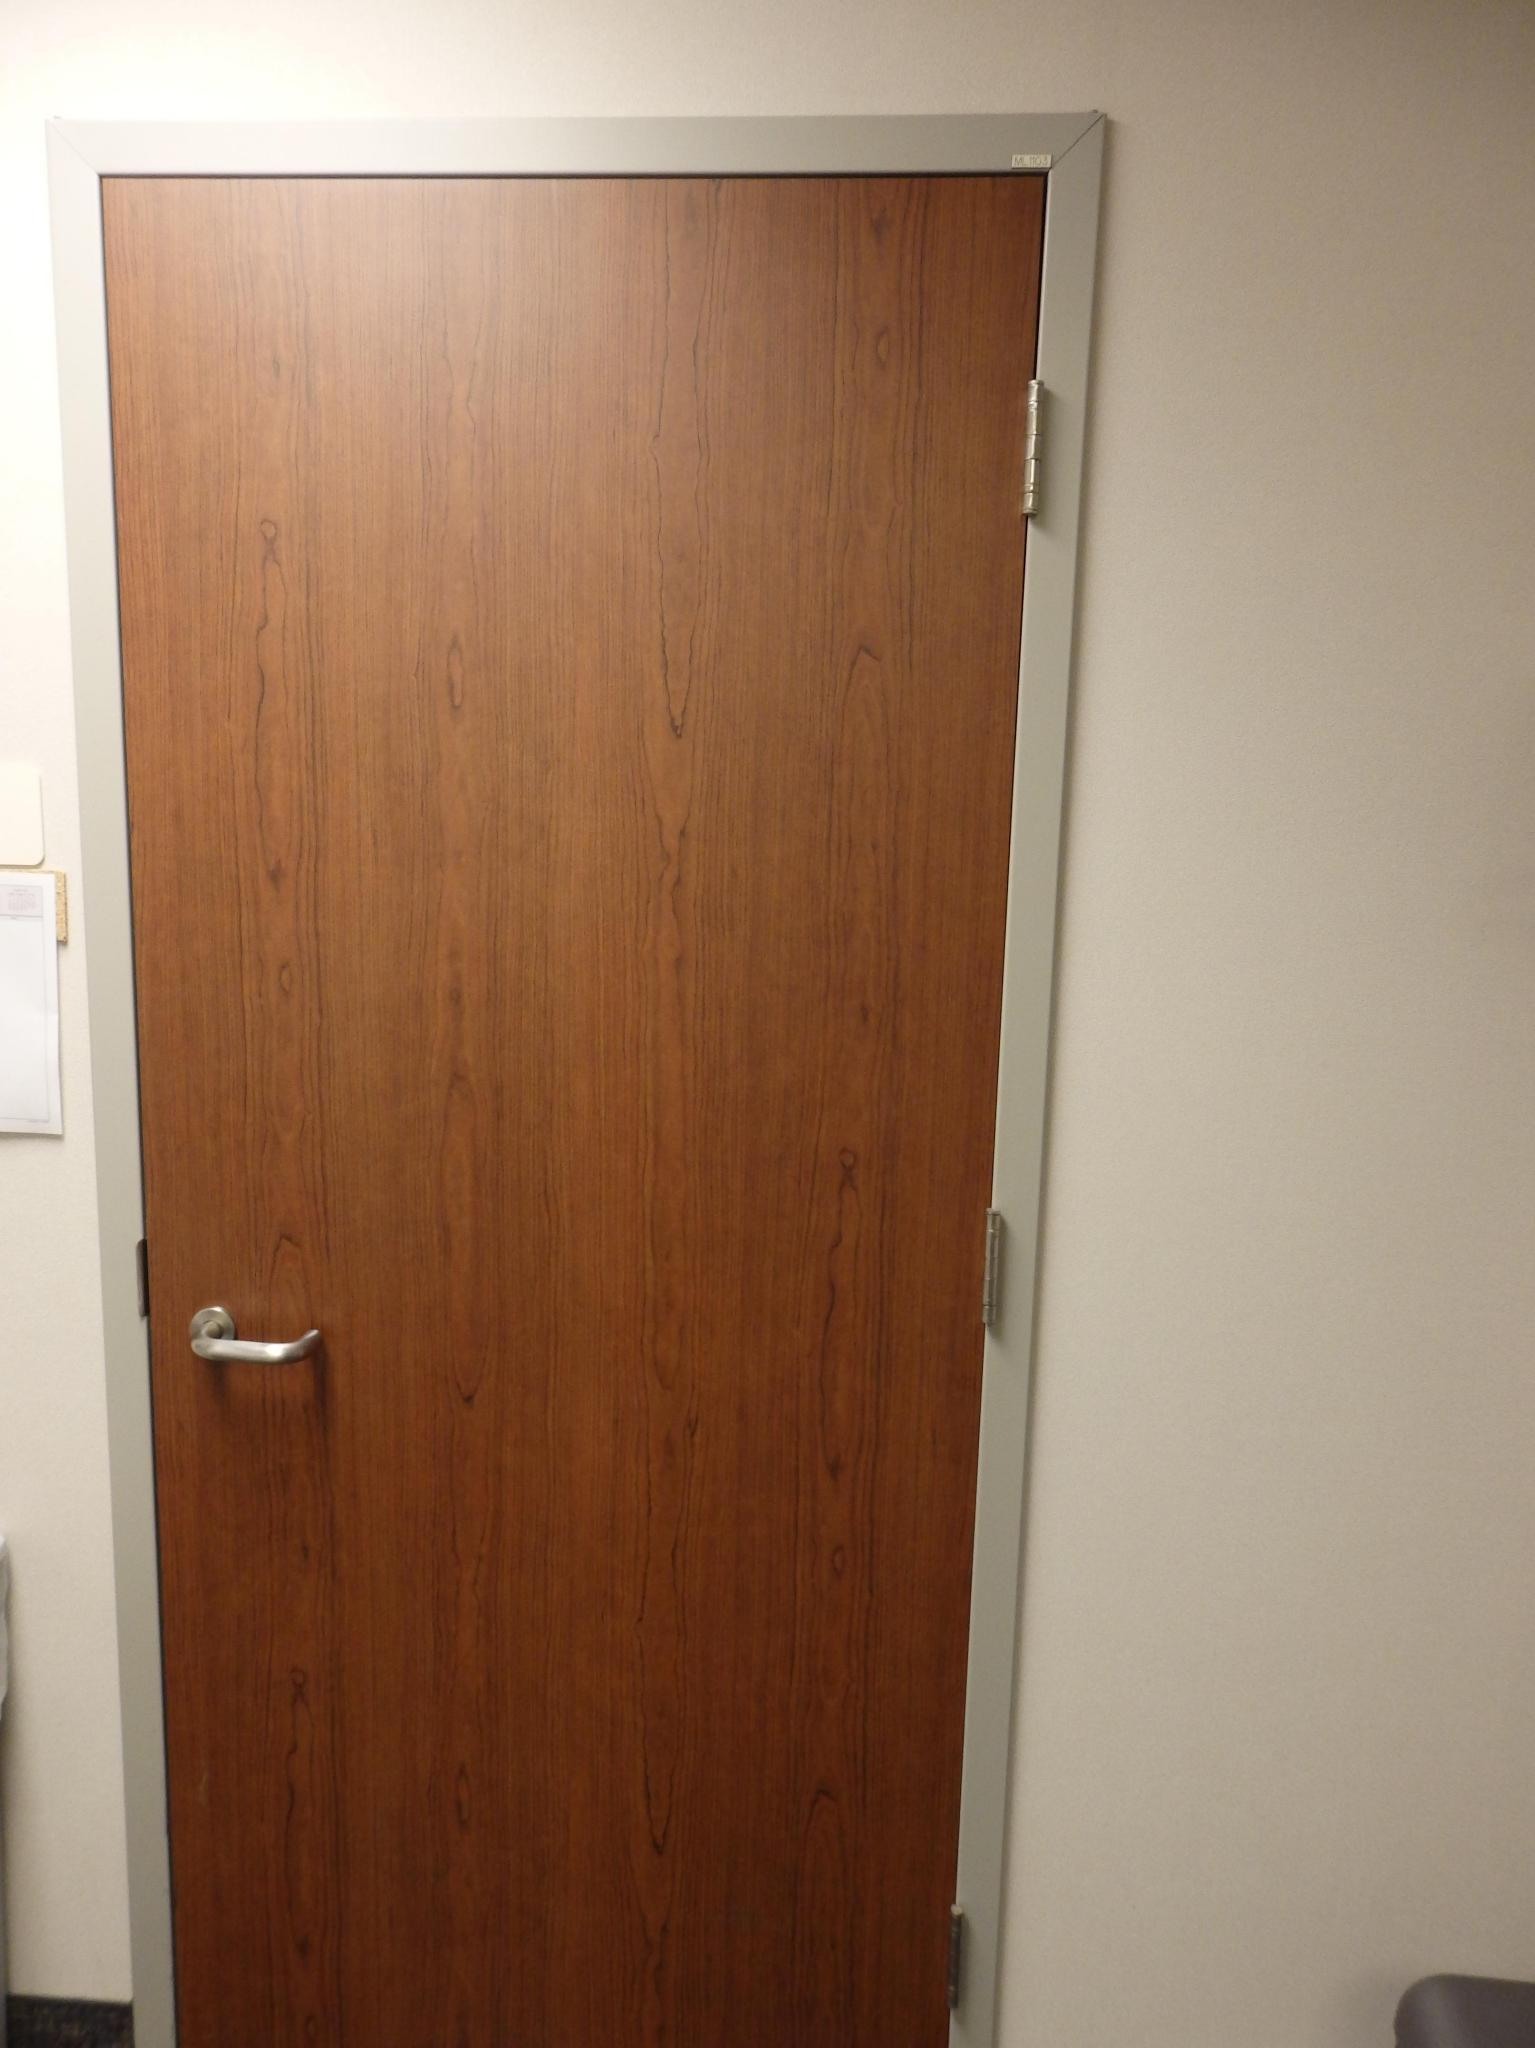door: (111, 197, 959, 2048)
handle: (181, 1300, 327, 1387)
